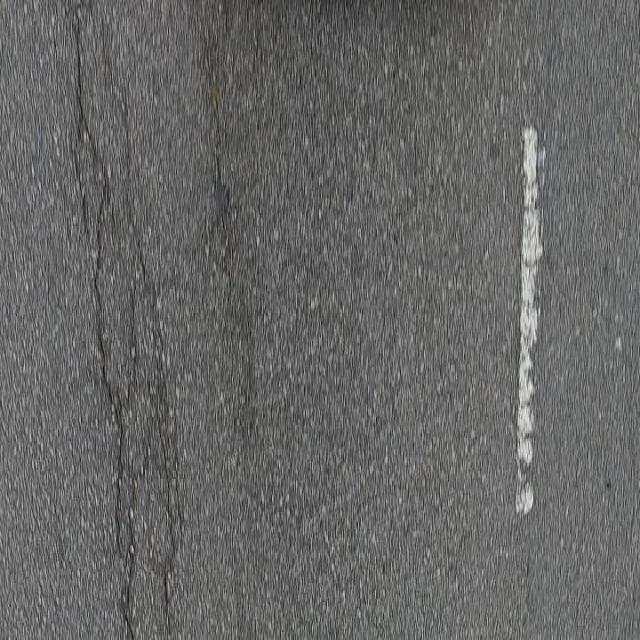cracks: (72, 8, 156, 640)
